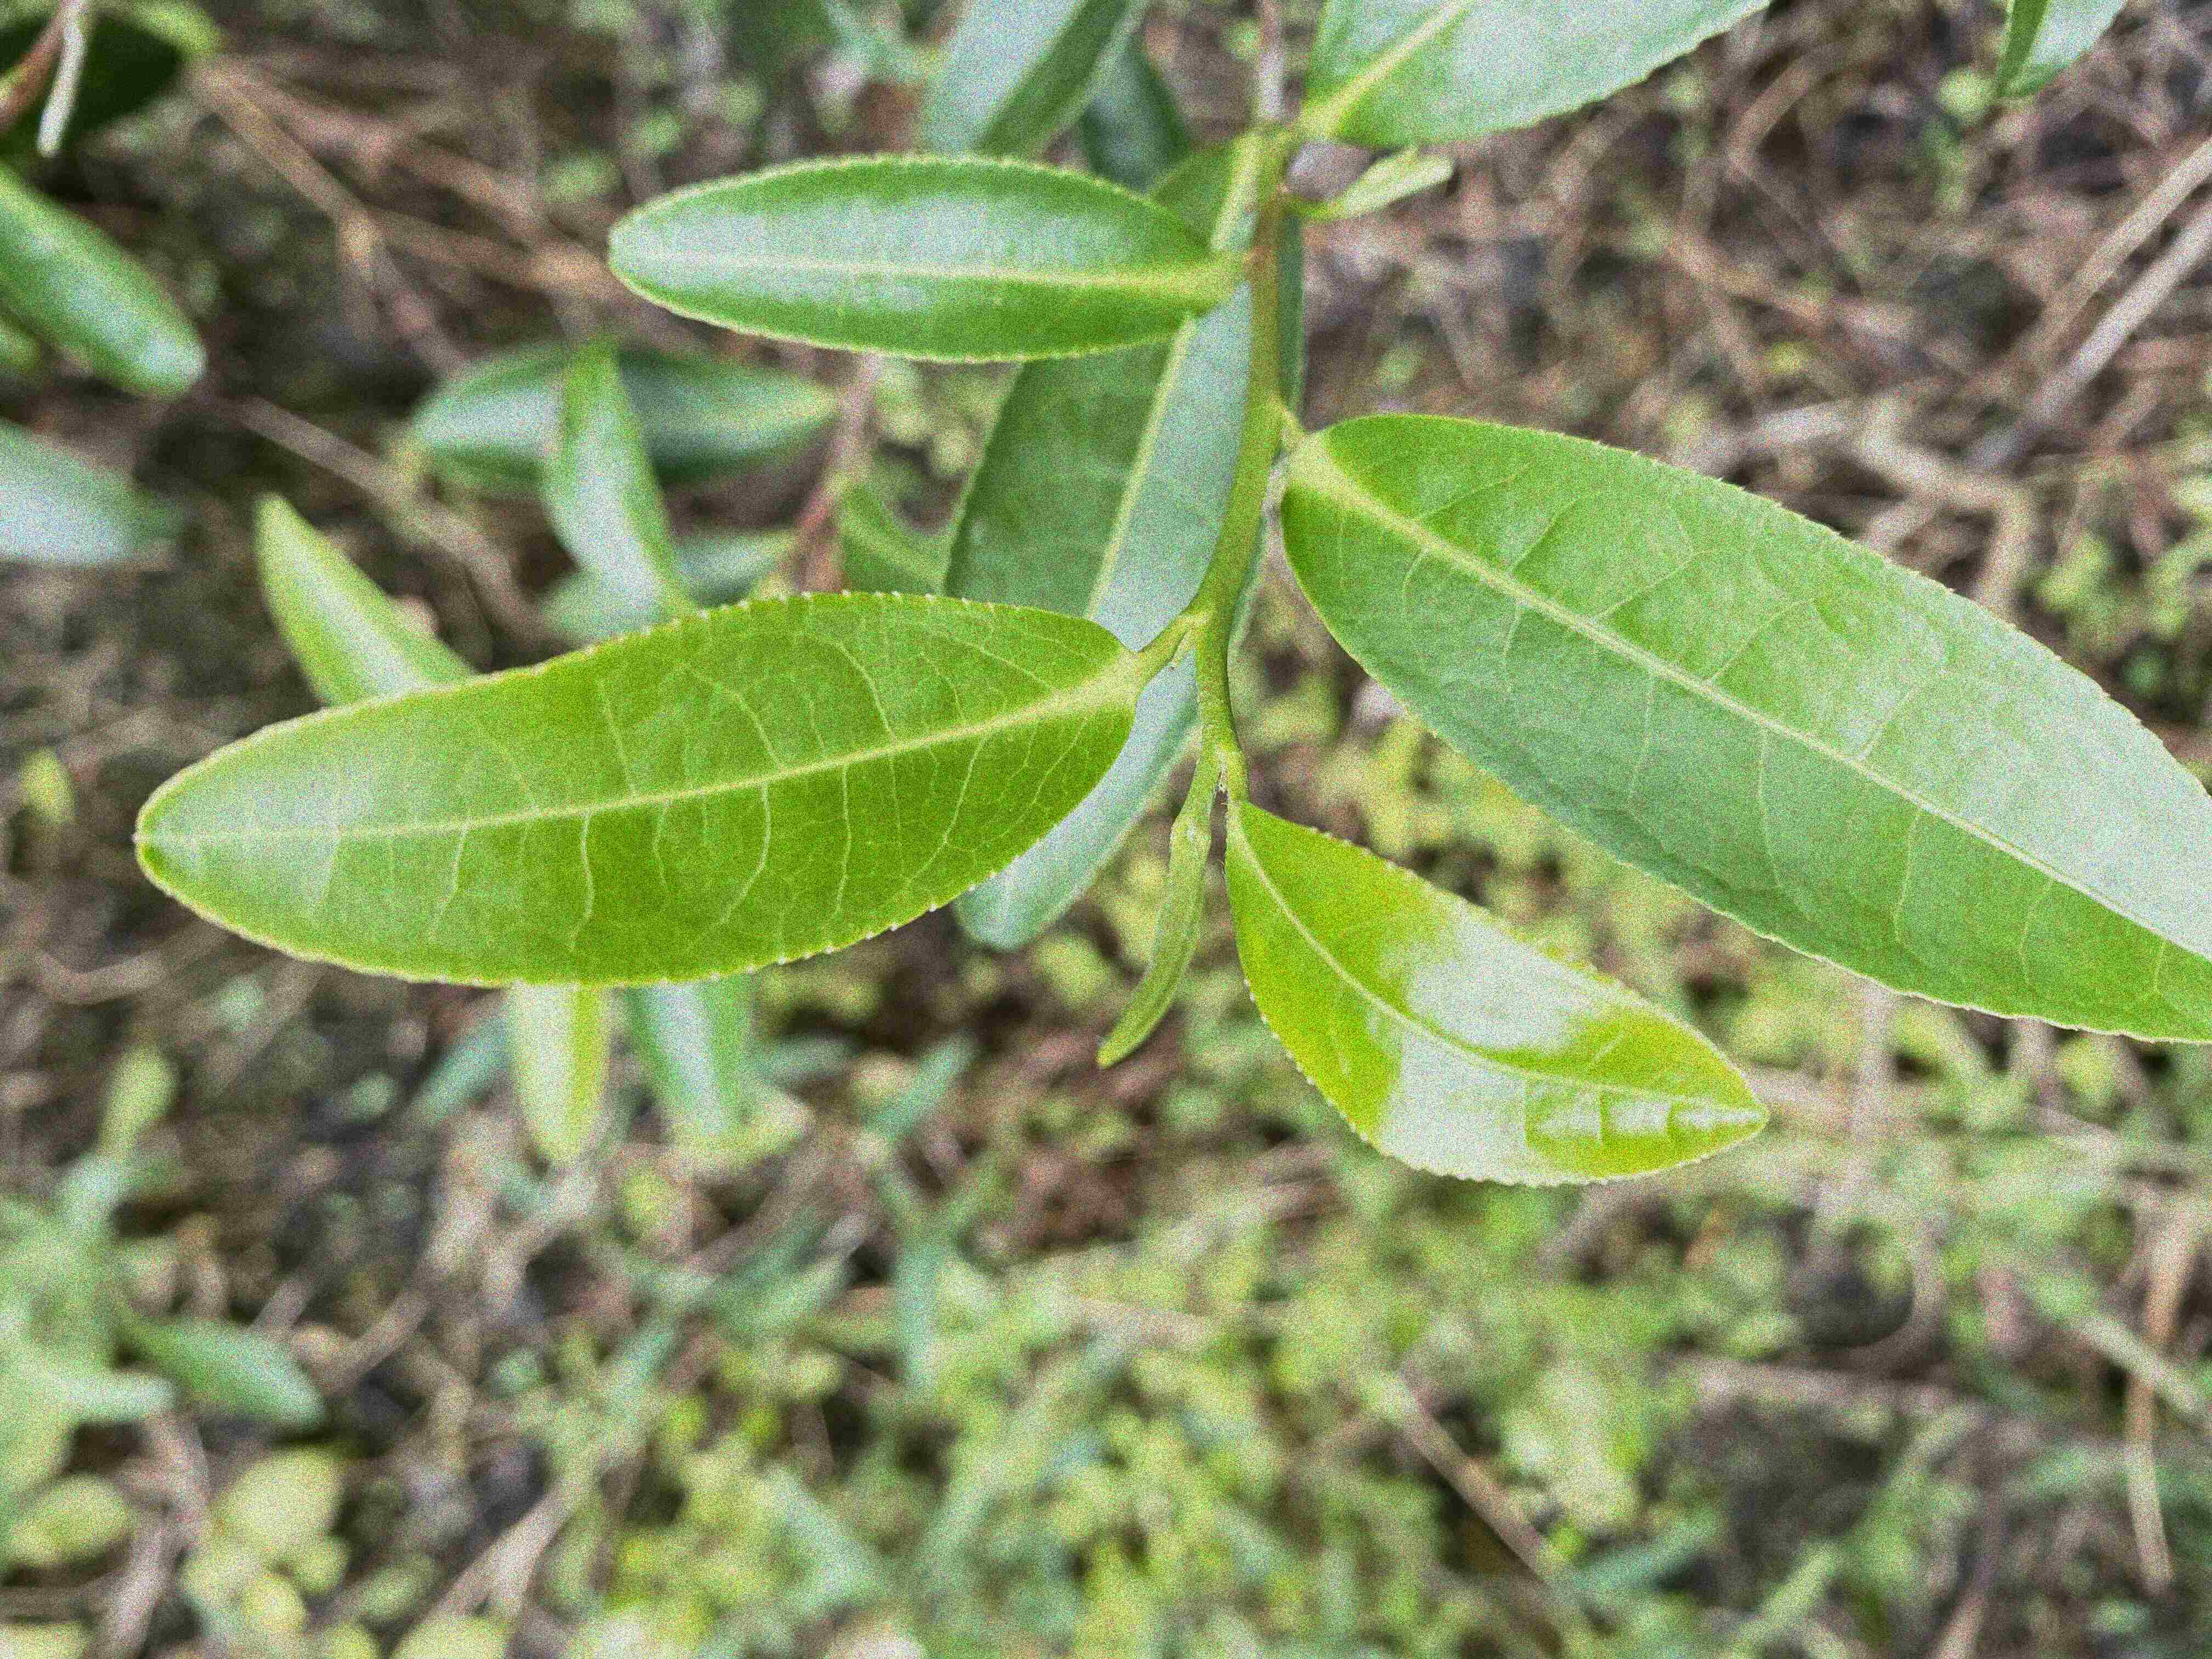healthy: (1284, 411, 2209, 1049), (129, 587, 1137, 992), (1217, 800, 1771, 1192), (606, 153, 1226, 364)
